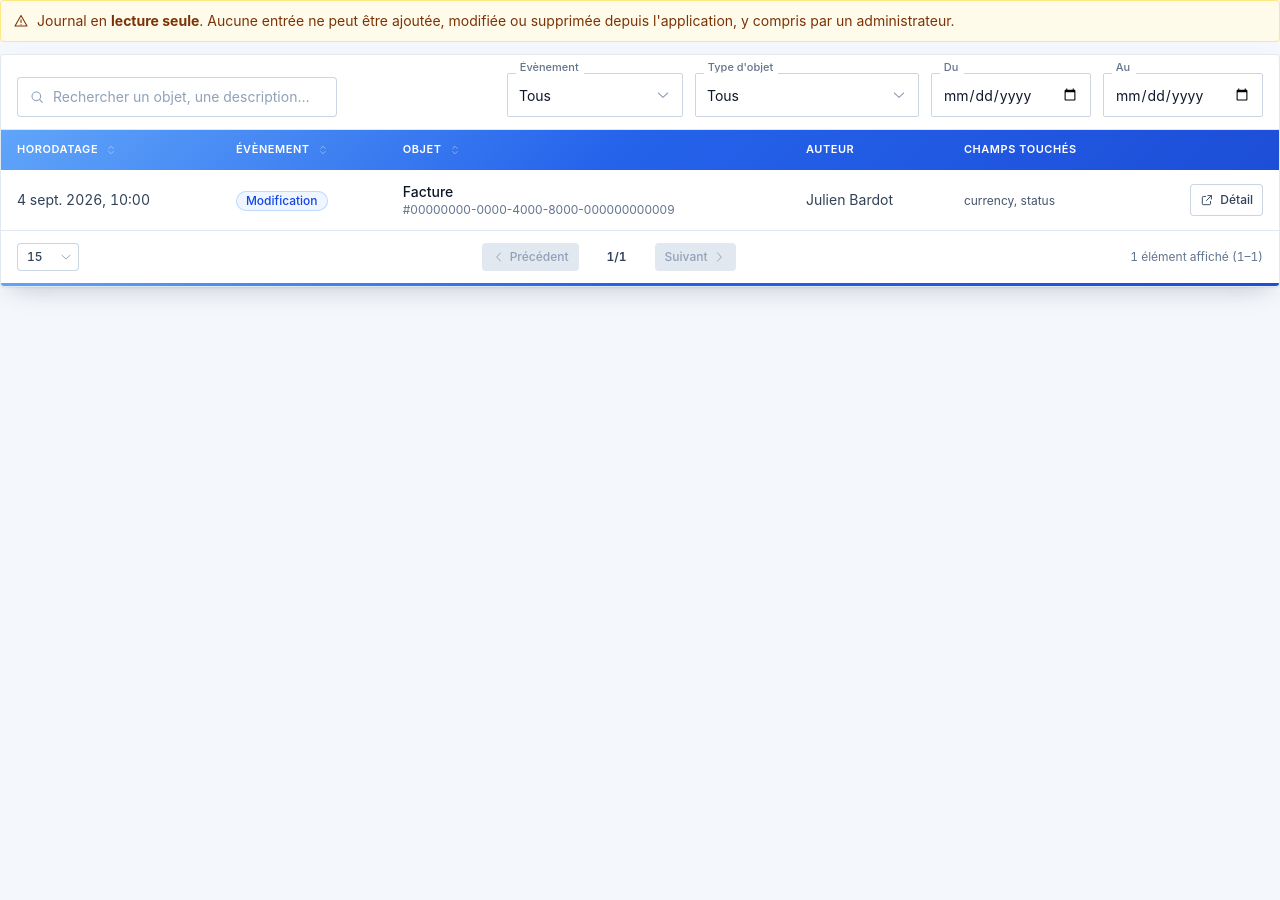
AuditList › montre l'avant et l'après d'un changement
The image size is (1280, 900).
Click the button "Détail": click(1227, 200) left=1190, top=184, right=1263, bottom=216
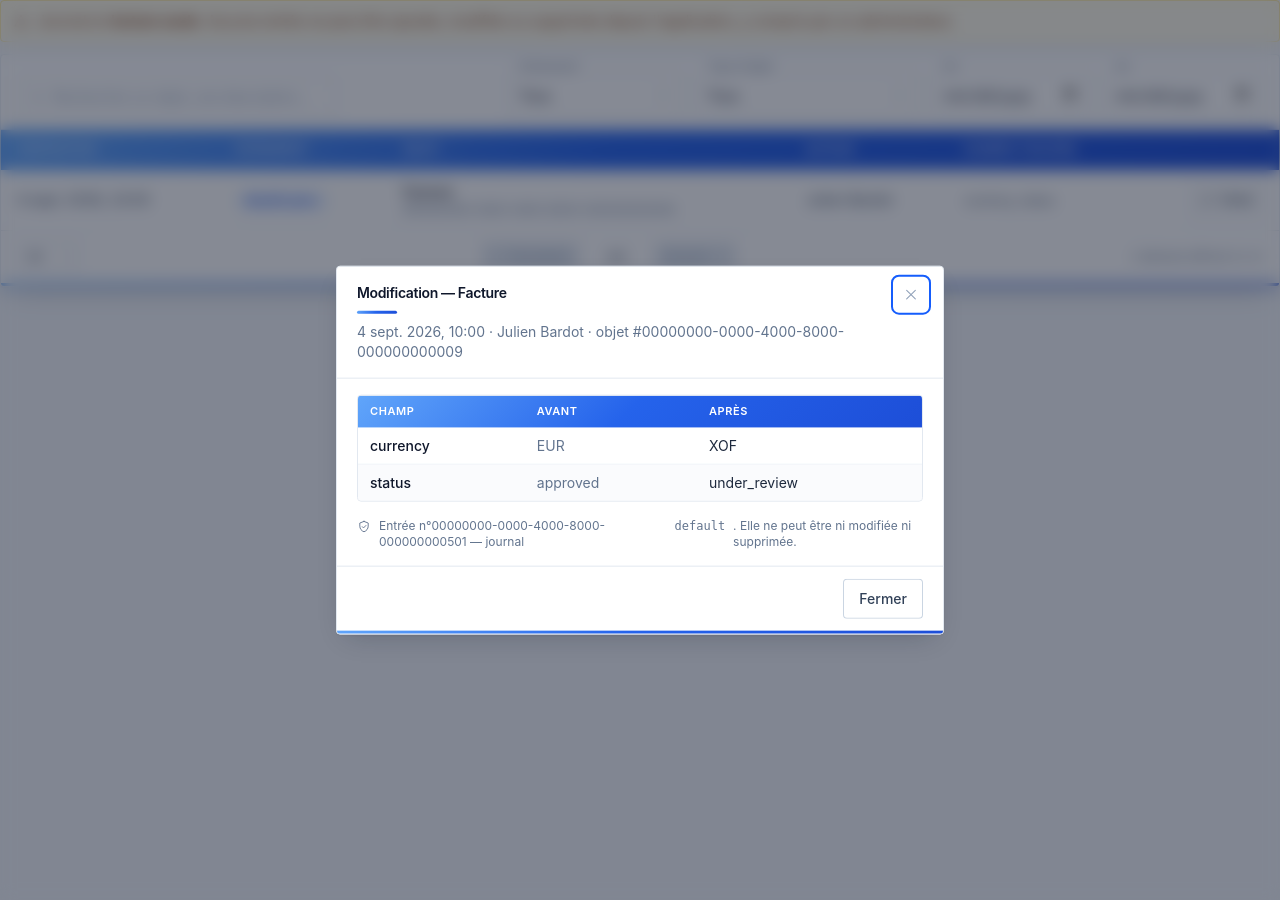
expect the text "EUR" is shown: met, box left=525, top=427, right=697, bottom=464
expect the text "XOF" is shown: met, box left=697, top=427, right=922, bottom=464
